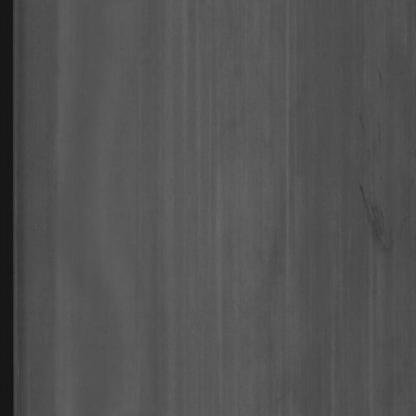water_spot: (357, 171, 393, 255)
